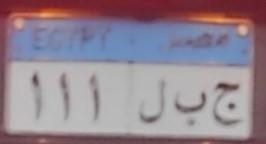1: (83, 72, 109, 124), (25, 67, 48, 123), (55, 69, 74, 125)
baa: (172, 88, 209, 128)
jeem: (211, 80, 246, 127)
laam: (138, 78, 170, 126)
